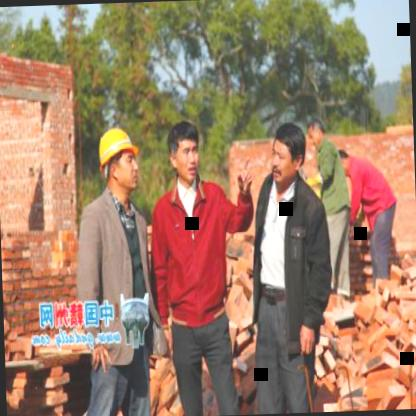head: (267, 122, 311, 188), (164, 120, 202, 182), (307, 114, 329, 148), (334, 146, 354, 174)
helmet: (93, 121, 146, 202)
